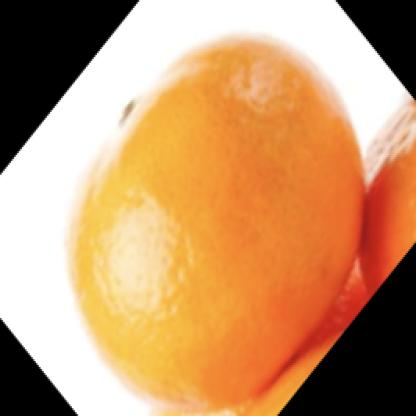fresh: (64, 33, 366, 416)
